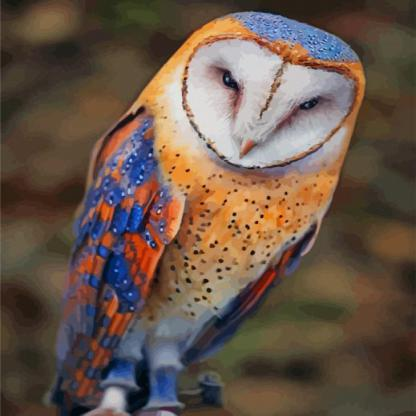owl: (69, 2, 415, 416)
